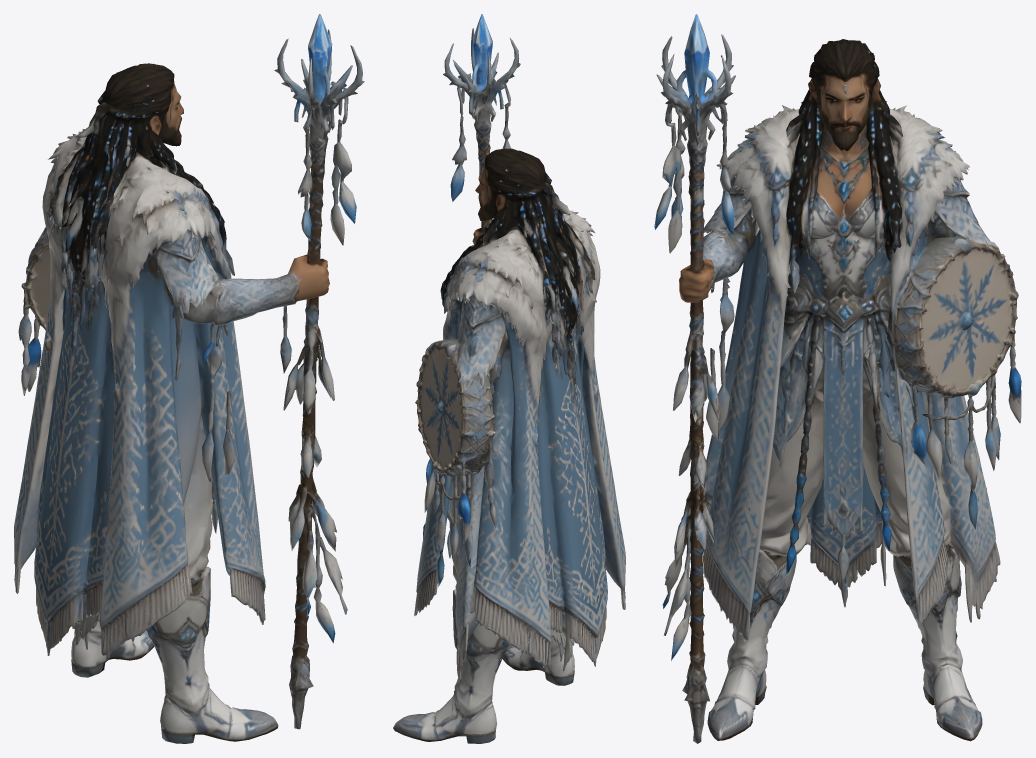
Rendered from drumcalleralt-WhiteSteppe-tripo.glb.
The picture shows the model from 3 angles, left to right: view 1: azimuth 30°, elevation 25°; view 2: azimuth 150°, elevation 25°; view 3: azimuth 270°, elevation 25°; orthographic projection. The views are drawn at different scales.
Parts seen in each view (by area): view 1: tripo_node_363ff31d-16f6-435a-a998-ef9d3e4ef0ab; view 2: tripo_node_363ff31d-16f6-435a-a998-ef9d3e4ef0ab; view 3: tripo_node_363ff31d-16f6-435a-a998-ef9d3e4ef0ab.
Boxes of the visible parts, x1,y1,x2,y2 form: tripo_node_363ff31d-16f6-435a-a998-ef9d3e4ef0ab: (14, 14, 364, 743); tripo_node_363ff31d-16f6-435a-a998-ef9d3e4ef0ab: (393, 14, 625, 743); tripo_node_363ff31d-16f6-435a-a998-ef9d3e4ef0ab: (654, 14, 1021, 743).
Bounding box in the file's own units: 0.3465 × 1 × 0.4467.
Materials: 1 (1 with a texture image).
